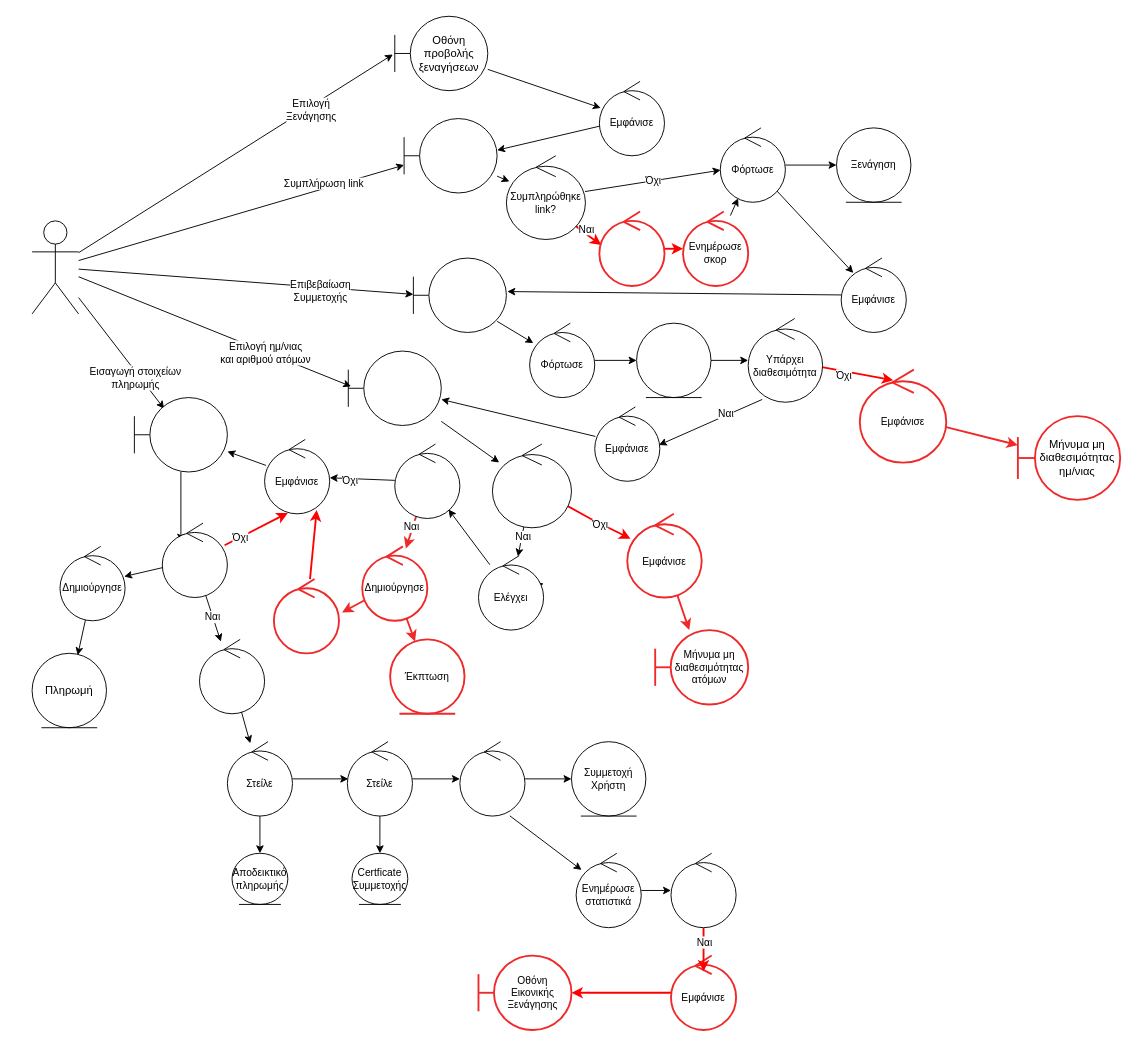
This 1137x1047 diagram has some shape labels left out. Each missing label, with the centre of its shape:
Aπλός Χρήστης: point (55, 267)
Link OK?: point (631, 248)
Δημιούργσε: point (492, 778)
Διεθέσιμες ημερ/νιες και ώρες: point (673, 360)
Δικαιούται έκπτωση;: point (427, 480)
Είναι Virual Tour?: point (703, 890)
Εκτέλεσε πληρωμή: point (232, 676)
Εφάρμοσε έκπτωση: point (305, 616)
Οθόνη Αναλυτικών Πληρ. Ξενάγησης: point (459, 294)
Οθόνη Διαθεσιμότητας: point (394, 387)
Οθόνη Πληρωμής: point (180, 434)
Οθόνη συμπλήρωση invite lnk: point (450, 155)
Στοιχεία πληρωμής ΟΚ;: point (194, 560)
Υπάρχει διαθεσιμότητα;: point (531, 485)
